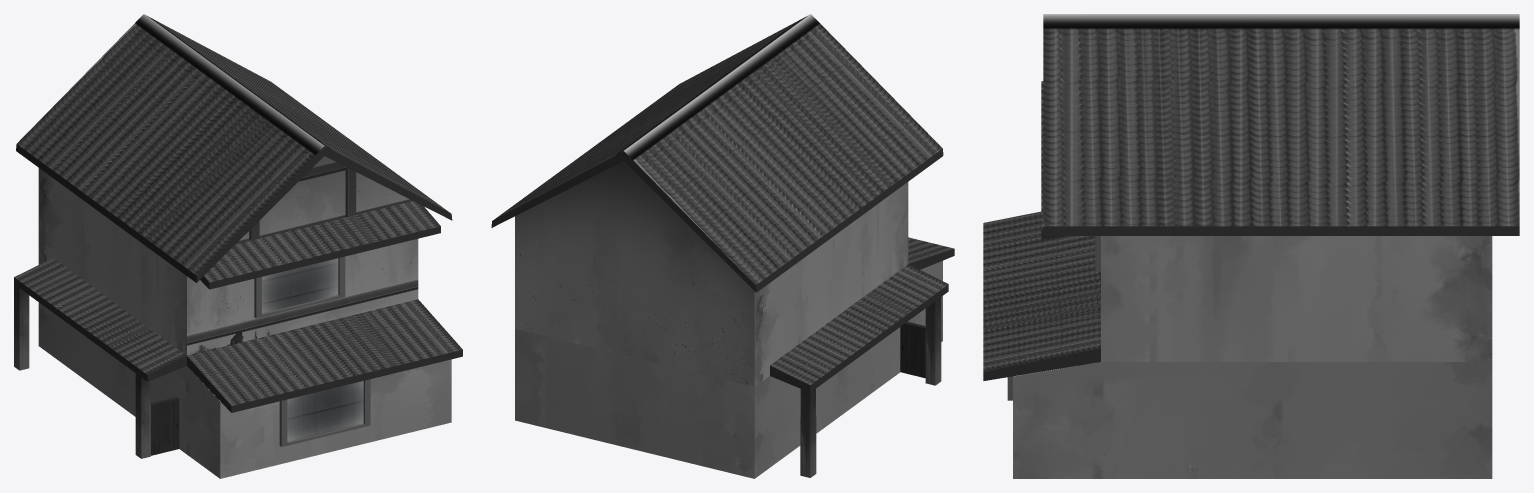
Rendered from BgMD_Building_10_01.fbx.
The picture shows the model from 3 angles, left to right: view 1: azimuth 30°, elevation 25°; view 2: azimuth 150°, elevation 25°; view 3: azimuth 270°, elevation 25°; orthographic projection. The views are drawn at different scales.
Visible parts, largest first — view 1: polySurface2; view 2: polySurface2; view 3: polySurface2.
Boxes of the visible parts, <box> form: polySurface2: <box>14,14,462,478</box>; polySurface2: <box>491,14,954,478</box>; polySurface2: <box>983,14,1519,478</box>.
Size of the model in its own units: 1466 by 1468 by 1826.
